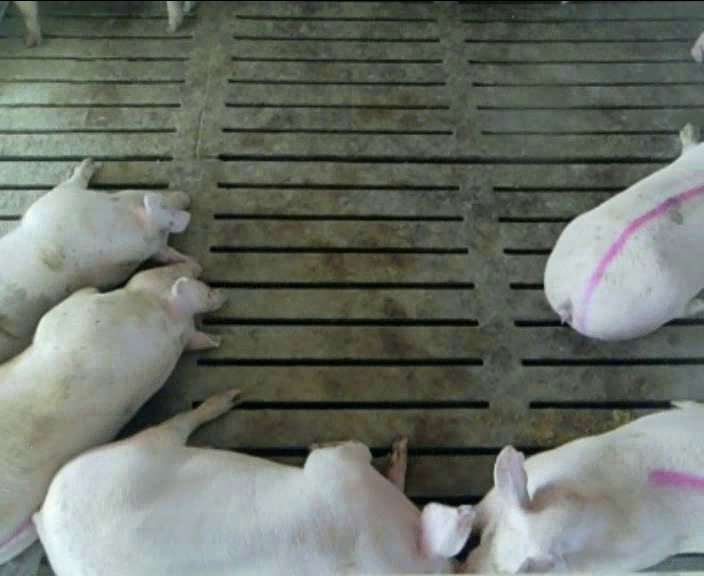pig: (34, 391, 475, 575), (0, 259, 222, 563), (462, 403, 703, 573), (0, 159, 189, 362), (545, 124, 703, 339)
